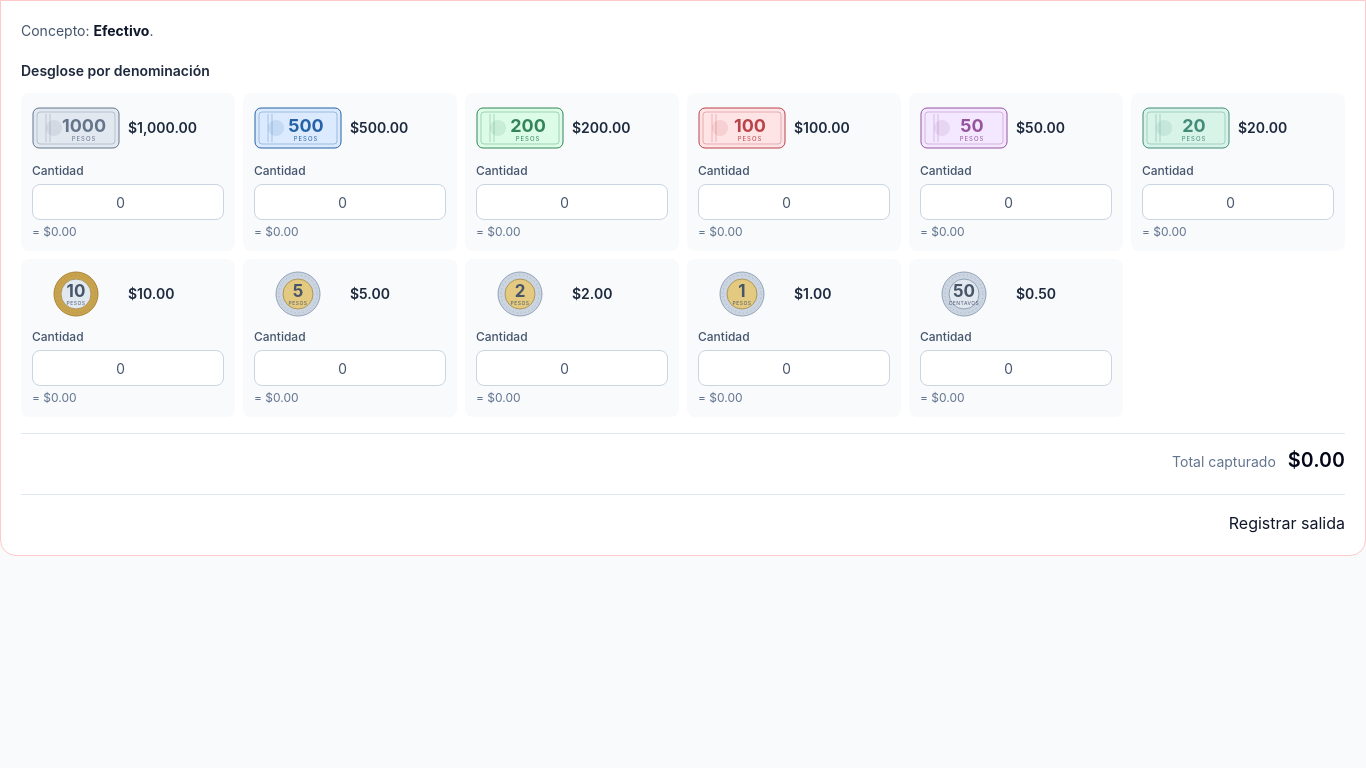
Scenario: Movimientos de caja › bloquea una salida superior al saldo
Replace the text in the number field named "Cantidad de $100.00" with "2" at [794, 202], box x1=698 y1=184 x2=890 y2=220
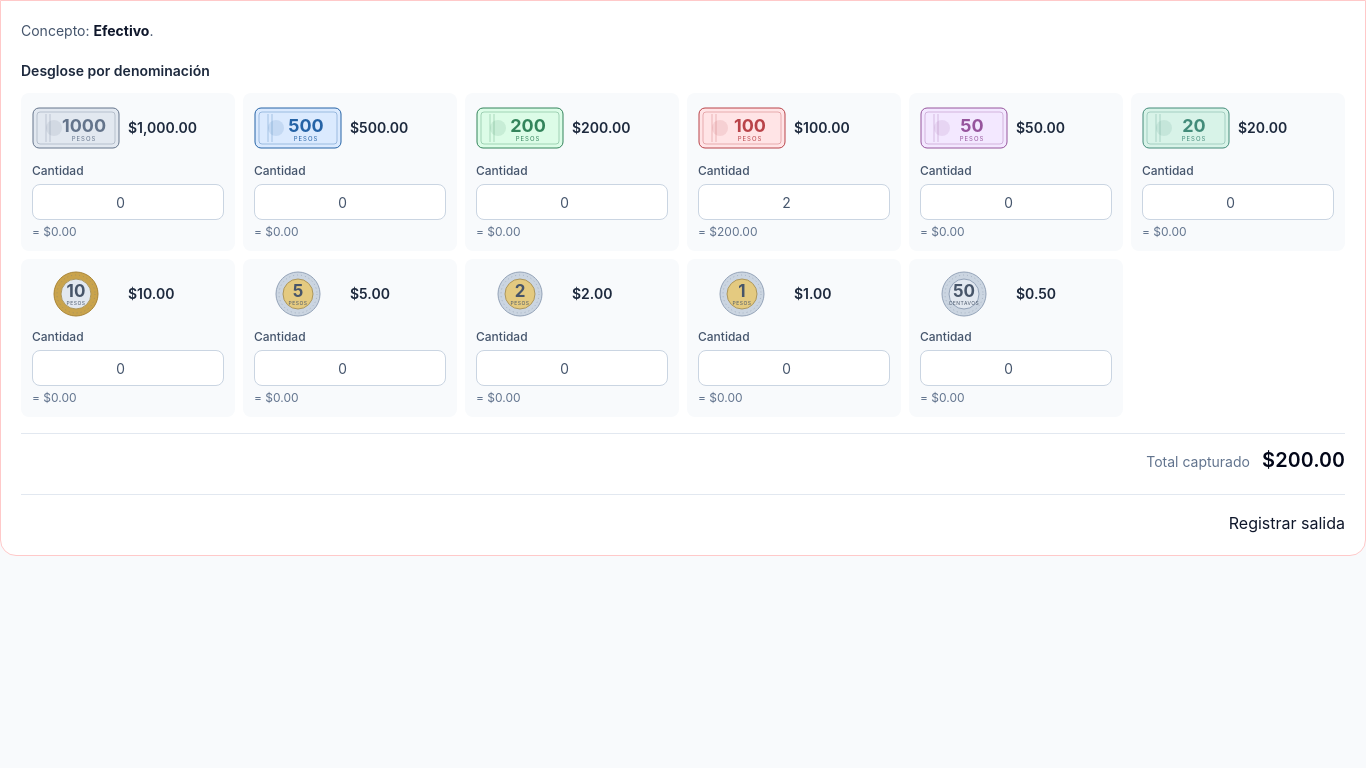
Click the button "Registrar salida".
click(1287, 523)  # box x1=1229 y1=511 x2=1345 y2=535
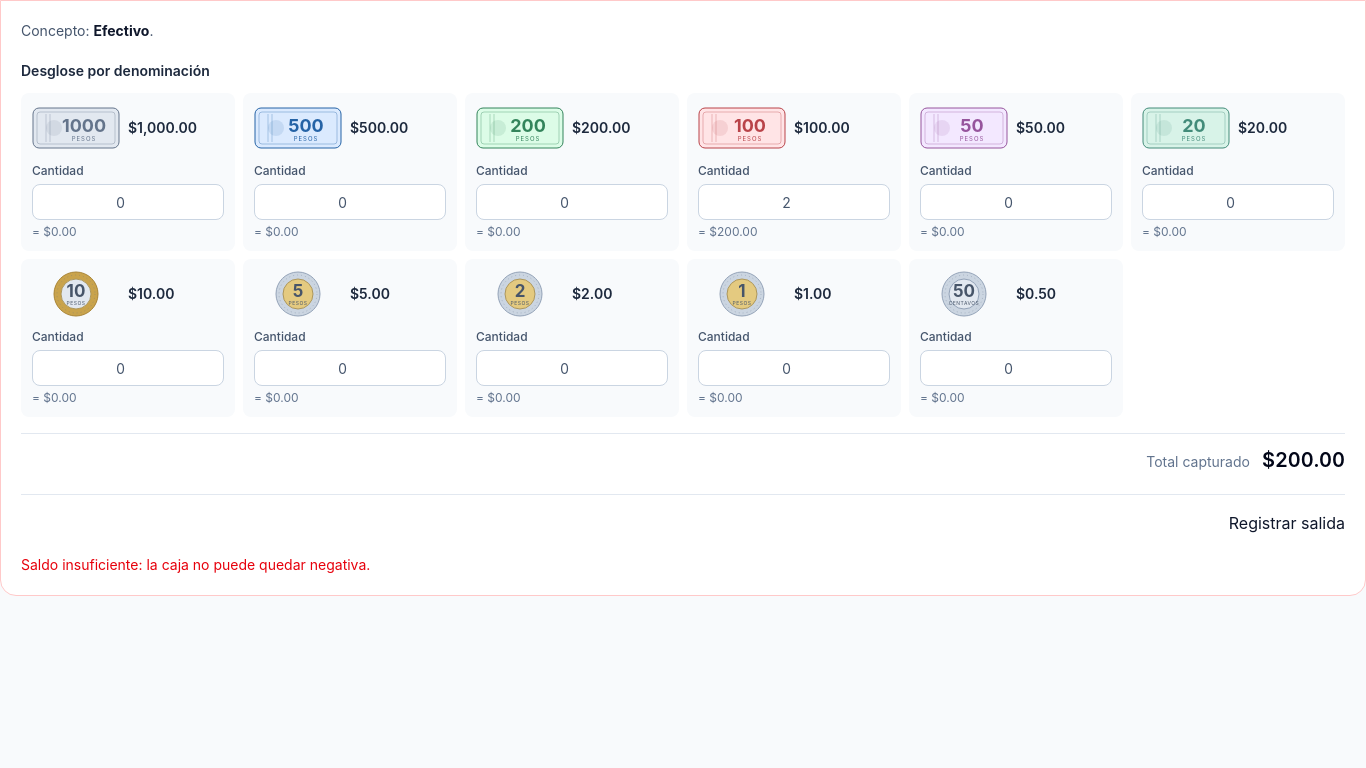
Check: the message shows "Saldo insuficiente", box x1=21 y1=556 x2=370 y2=573
